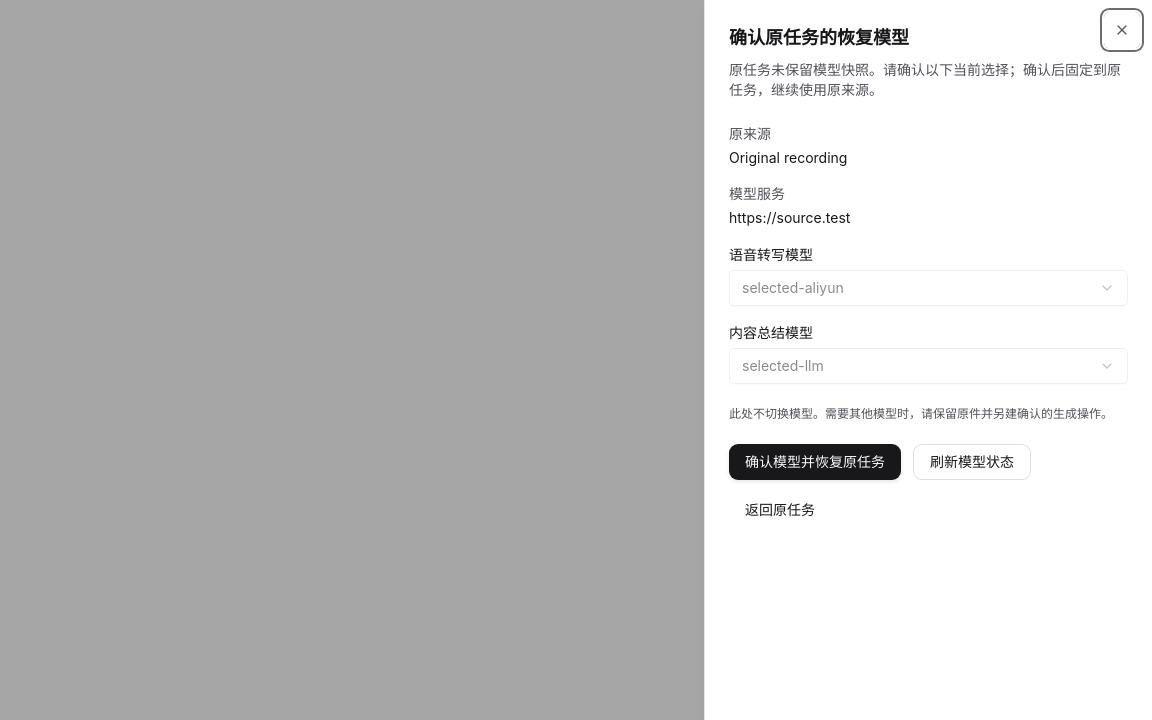
Test case: does not replace the displayed model when a refresh reports changed preferences
Check: the text "Original recording" is shown, box [729, 149, 847, 166]
Click the button "刷新模型状态": x=972, y=462 [913, 444, 1031, 480]
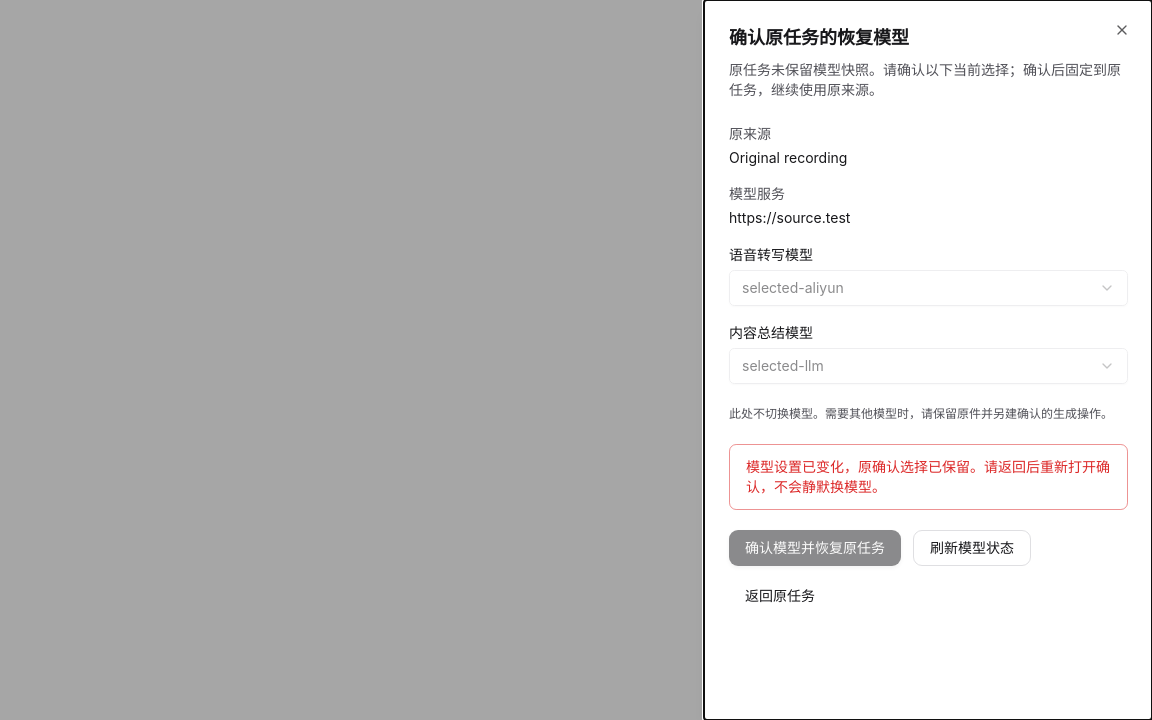
Check: the dropdown named "语音转写模型" reads "selected-aliyun", box [729, 270, 1128, 306]
Check: the text "模型设置已变化，原确认选择已保留。请返回后重新打开确认，不会静默换模型。" is shown, box [746, 457, 1111, 497]
Check: the button "确认模型并恢复原任务" is disabled, box [729, 530, 901, 566]
